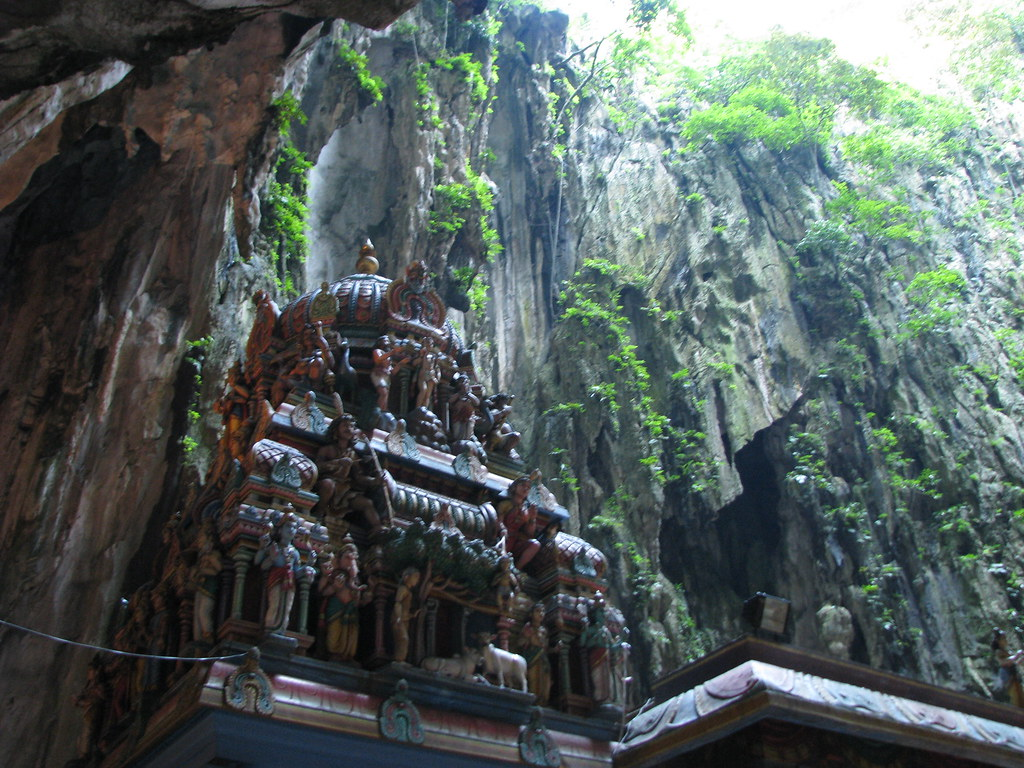Hindu Temple: (180, 233, 582, 730)
